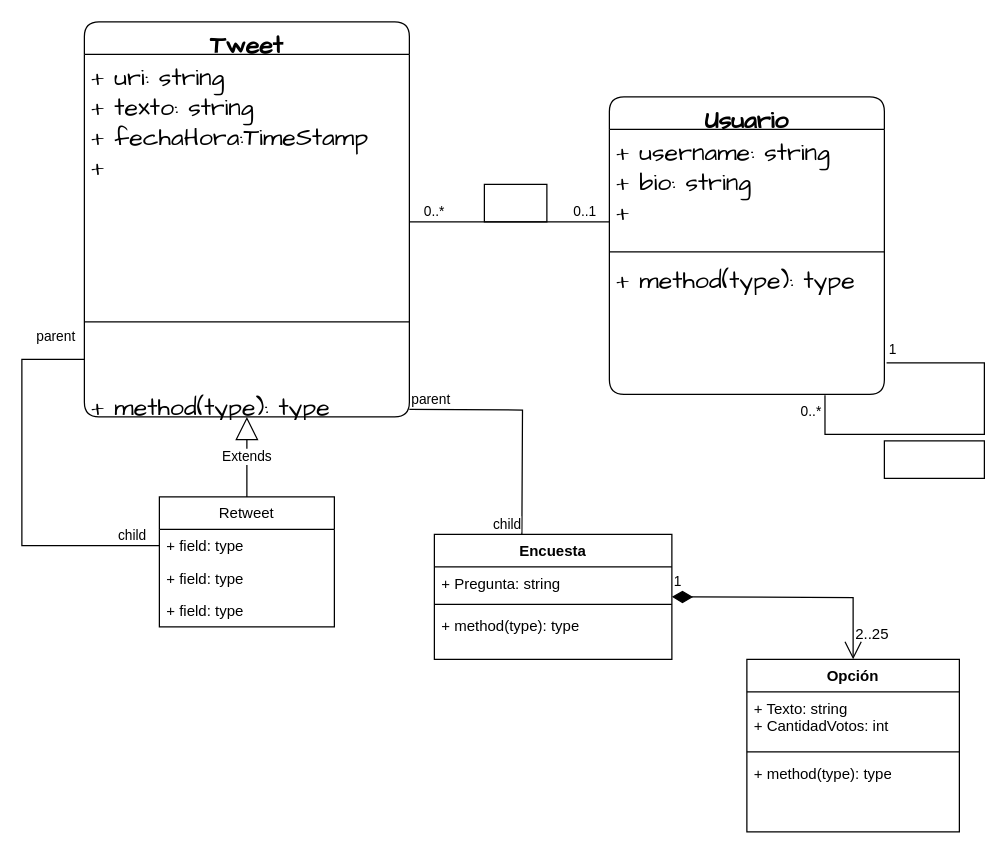
Image size: 1008x858. Some labels were removed from this diagram. The centre of each missing label's shape, as x and y in pixels:
Autor: (x=515, y=202)
Siguiendo: (x=933, y=459)
